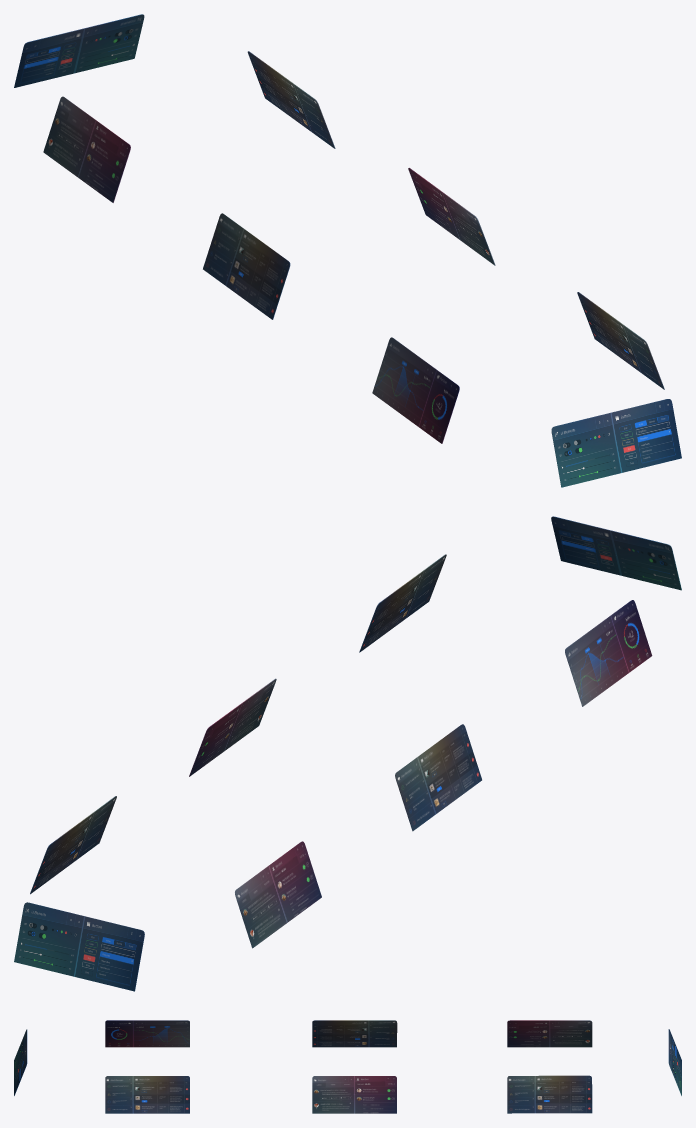
The model's file is SciFi_TouchScreens.FBX.
The picture shows the model from 3 angles, top to bottom: view 1: azimuth 30°, elevation 25°; view 2: azimuth 150°, elevation 25°; view 3: azimuth 270°, elevation 25°; orthographic projection. The views are drawn at different scales.
Visible parts, largest first — view 1: SciFi_TouchScreen_01, SciFi_TouchScreen_05, SciFi_TouchScreen_07, SciFi_TouchScreen_06, SciFi_TouchScreen_08, SciFi_TouchScreen_04, SciFi_TouchScreen_02, SciFi_TouchScreen_03; view 2: SciFi_TouchScreen_05, SciFi_TouchScreen_01, SciFi_TouchScreen_08, SciFi_TouchScreen_07, SciFi_TouchScreen_06, SciFi_TouchScreen_03, SciFi_TouchScreen_02, SciFi_TouchScreen_04; view 3: SciFi_TouchScreen_04, SciFi_TouchScreen_02, SciFi_TouchScreen_03, SciFi_TouchScreen_06, SciFi_TouchScreen_07, SciFi_TouchScreen_08, SciFi_TouchScreen_01, SciFi_TouchScreen_05.
Part boxes in pixels (<box>): SciFi_TouchScreen_01: <box>551,399,681,487</box>; SciFi_TouchScreen_05: <box>14,14,144,87</box>; SciFi_TouchScreen_07: <box>203,213,290,319</box>; SciFi_TouchScreen_06: <box>43,96,130,202</box>; SciFi_TouchScreen_08: <box>372,337,459,443</box>; SciFi_TouchScreen_04: <box>247,51,335,148</box>; SciFi_TouchScreen_02: <box>577,292,664,389</box>; SciFi_TouchScreen_03: <box>408,168,495,265</box>; SciFi_TouchScreen_05: <box>14,902,144,991</box>; SciFi_TouchScreen_01: <box>551,516,681,590</box>; SciFi_TouchScreen_08: <box>565,600,652,706</box>; SciFi_TouchScreen_07: <box>395,724,481,831</box>; SciFi_TouchScreen_06: <box>235,841,321,948</box>; SciFi_TouchScreen_03: <box>189,678,276,776</box>; SciFi_TouchScreen_02: <box>359,554,446,652</box>; SciFi_TouchScreen_04: <box>30,796,116,894</box>; SciFi_TouchScreen_04: <box>507,1075,592,1113</box>; SciFi_TouchScreen_02: <box>105,1076,189,1113</box>; SciFi_TouchScreen_03: <box>312,1076,396,1113</box>; SciFi_TouchScreen_06: <box>507,1020,592,1047</box>; SciFi_TouchScreen_07: <box>312,1020,397,1047</box>; SciFi_TouchScreen_08: <box>105,1020,189,1047</box>; SciFi_TouchScreen_01: <box>14,1029,27,1095</box>; SciFi_TouchScreen_05: <box>668,1029,681,1095</box>.
Bounding box in the file's own units: 989 × 223 × 4192.
